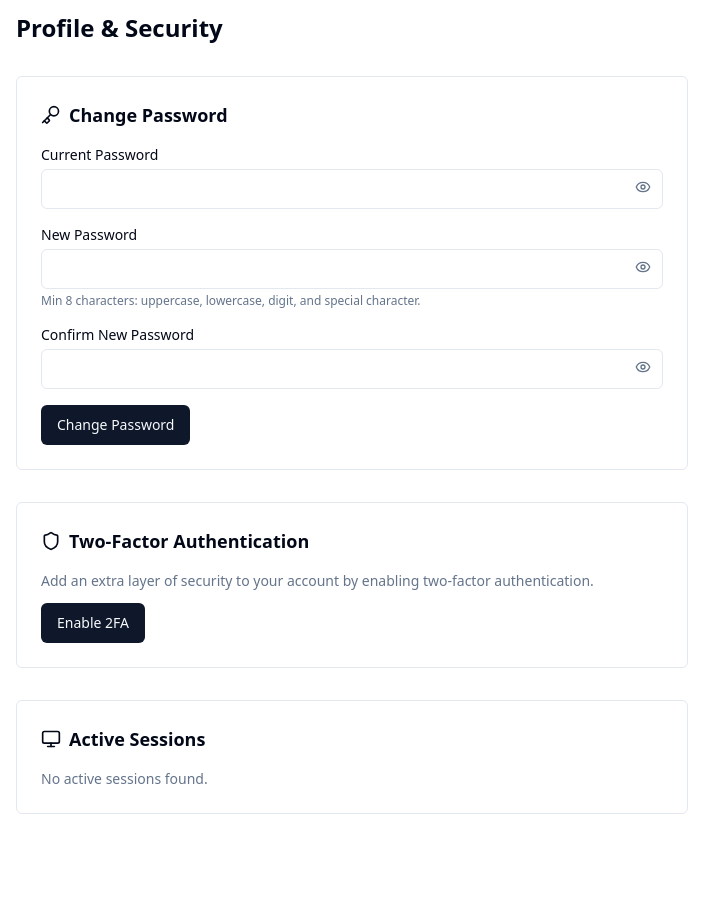
Test case: ProfilePage › validates password requirements
Note: Too short
Type "Short1!" into the password field with test id "new-password". click: (352, 269)
box: [41,249,663,289]
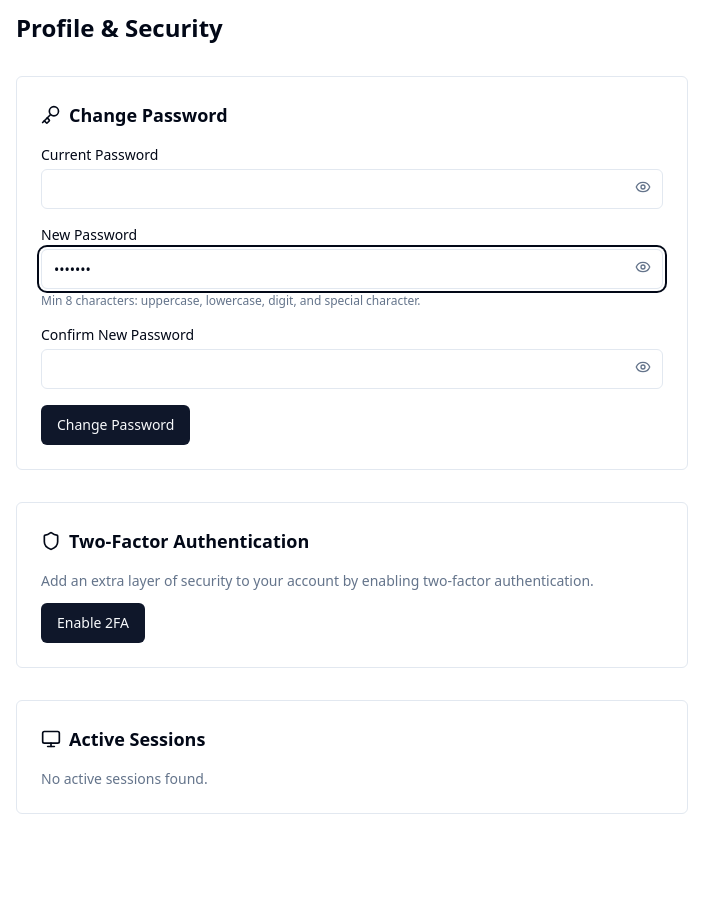
Click the button with test id "change-password-btn". click: (116, 425)
box: [41,405,190,445]
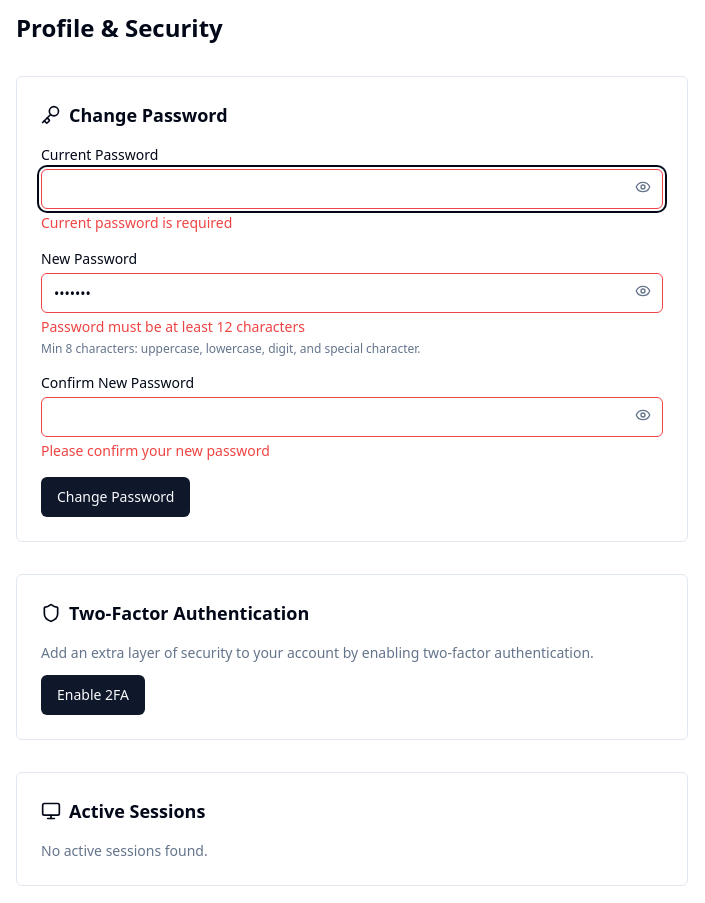
Now the text "Password must be at least 12 characters" is shown, box [41,317,305,336]
